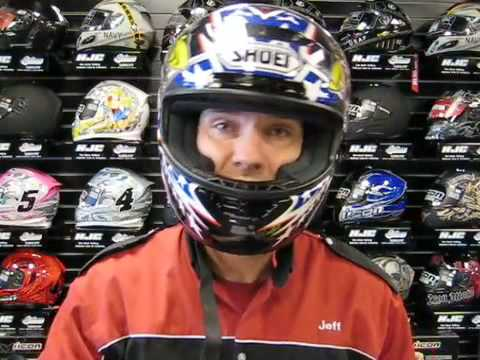helmet: (154, 1, 347, 240)
